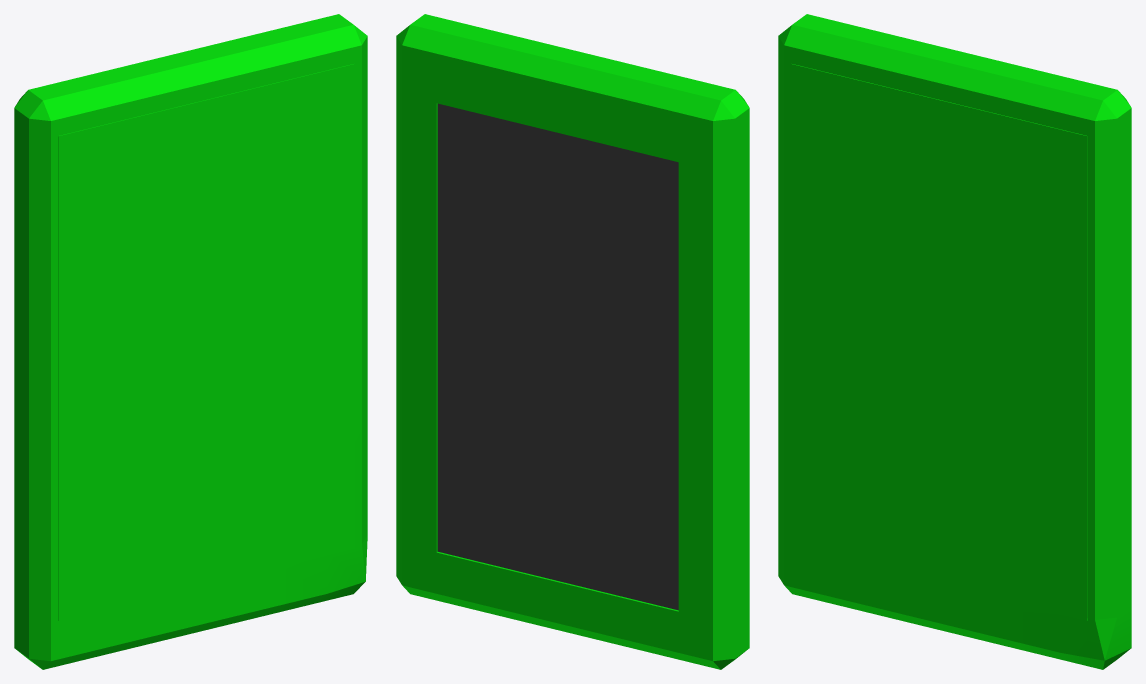
The model's file is Phone.Tristan.fbx.
3 views of the same model, side by side, from view 1: azimuth 30°, elevation 25°; view 2: azimuth 150°, elevation 25°; view 3: azimuth 330°, elevation 25° (orthographic).
Parts seen in each view (by area): view 1: pCube2, pCube1; view 2: pasted__pCube2, pCube1; view 3: pCube2, pCube1.
Boxes of the visible parts, x1,y1,x2,y2 form: pCube2: (58,64,354,620); pCube1: (14,14,367,669); pasted__pCube2: (437,103,678,610); pCube1: (396,14,749,669); pCube2: (791,64,1087,620); pCube1: (778,14,1131,669).
Bounding box in the file's own units: 2.27 × 3.64 × 0.3618.
